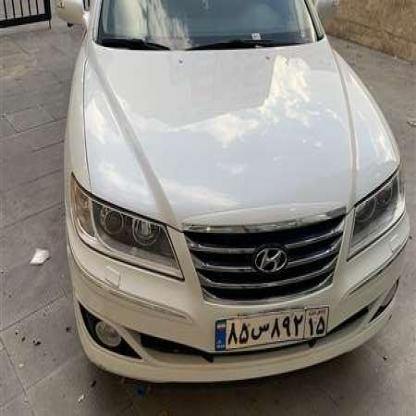Car: (57, 0, 409, 373)
